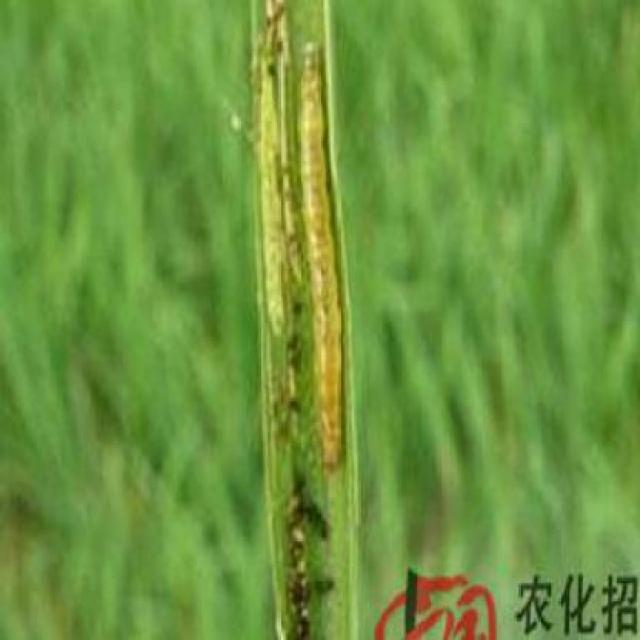leaf-folder: (237, 32, 354, 477)
